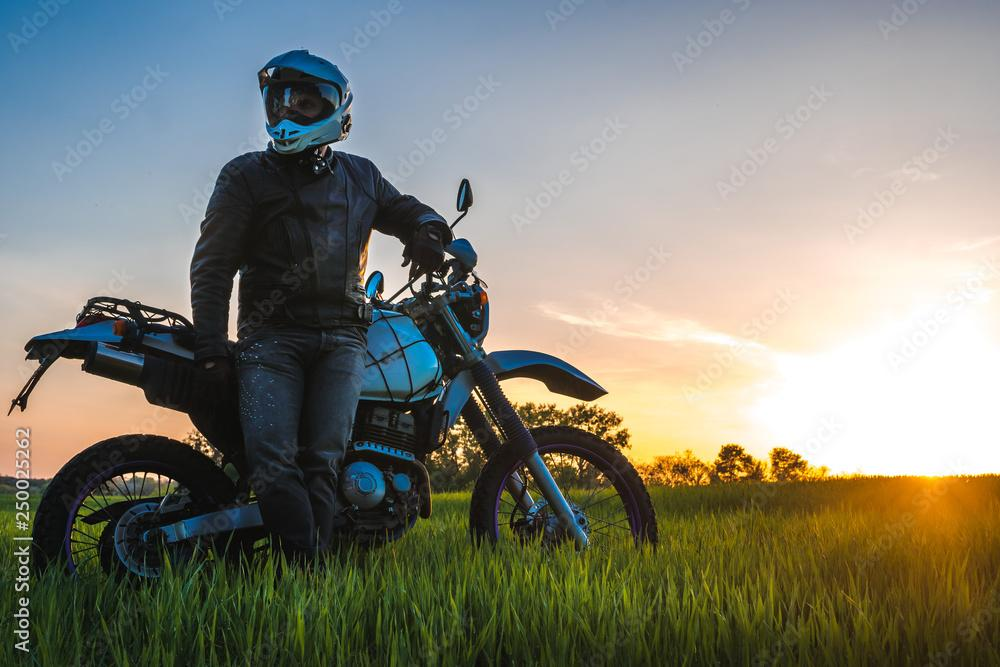helmet: (256, 48, 354, 157)
